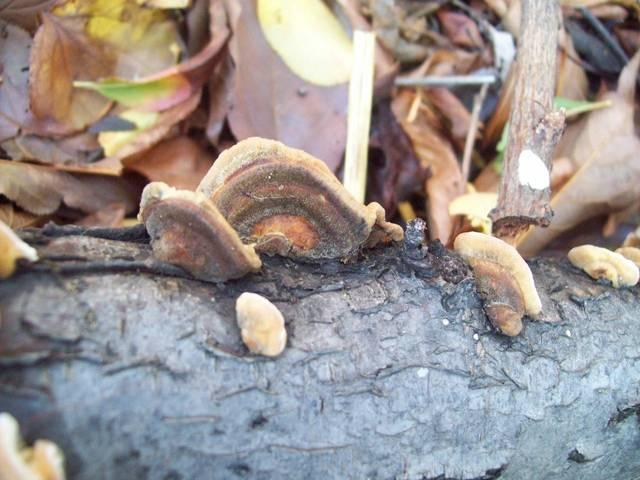Non-edible Mushroom: (194, 135, 404, 264), (136, 180, 262, 284), (451, 229, 543, 337), (233, 290, 287, 357)
